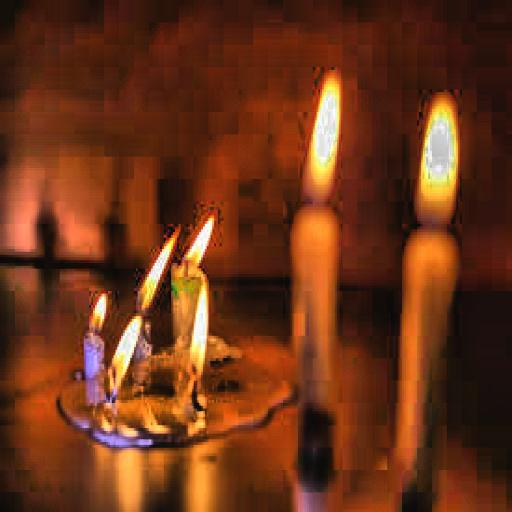fire: (290, 67, 358, 213), (410, 90, 462, 226), (128, 224, 180, 319), (101, 316, 145, 389), (175, 207, 222, 269), (69, 288, 113, 333)
